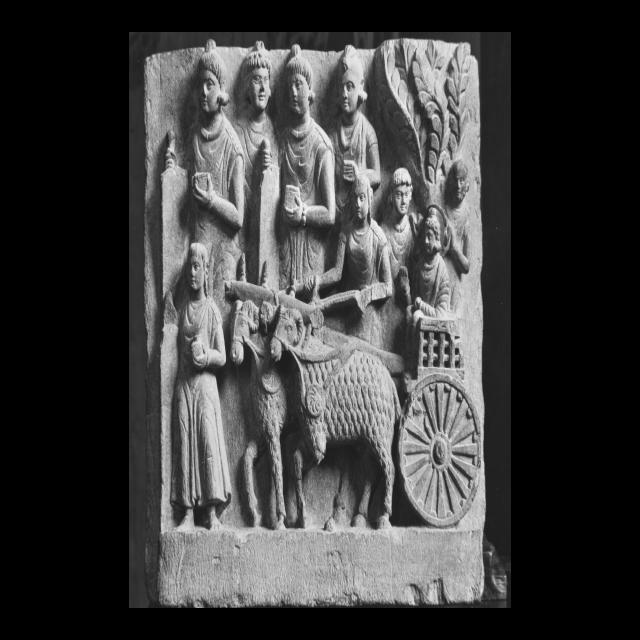buddha-sitting: (414, 207, 450, 319), (426, 271, 426, 272)
